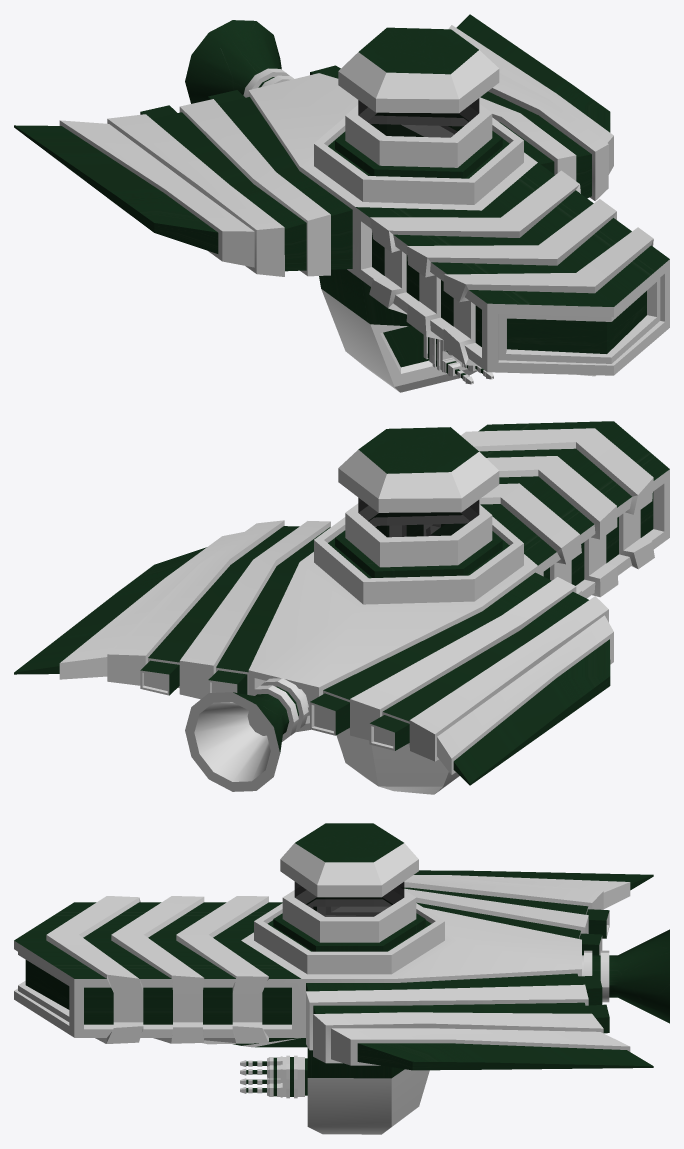
Rendered from DDC.fbx.
3 views of the same model, one above another, from view 1: azimuth 30°, elevation 25°; view 2: azimuth 150°, elevation 25°; view 3: azimuth 270°, elevation 25° (orthographic). The views are drawn at different scales.
Visible parts, largest first — view 1: DDC; view 2: DDC; view 3: DDC.
Part boxes in pixels (x1,y1,x2,y2): DDC: (14,14,669,392); DDC: (14,421,669,794); DDC: (14,823,669,1134).
Bounding box in the file's own units: 6.01 × 4.06 × 8.7.
